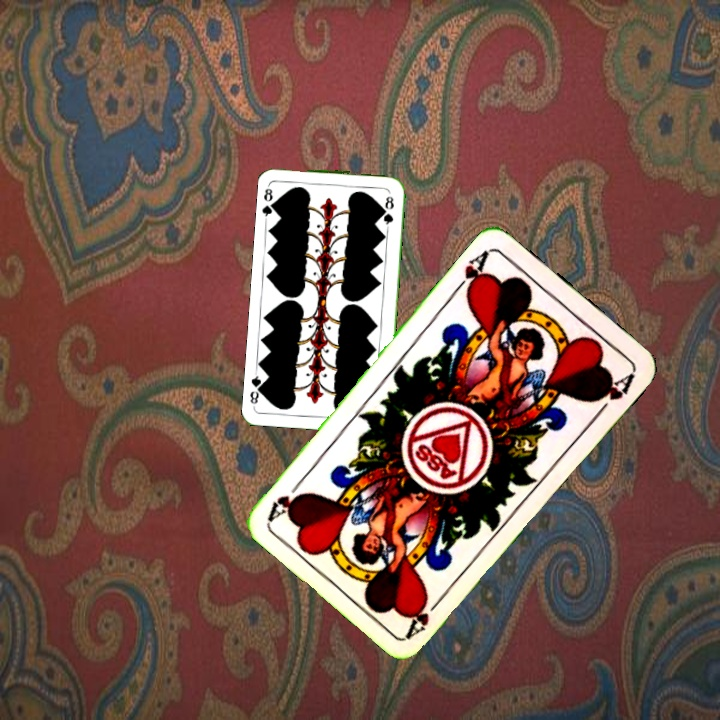G8: (259, 180, 279, 221)
HA: (449, 246, 493, 299), (403, 590, 449, 640)
